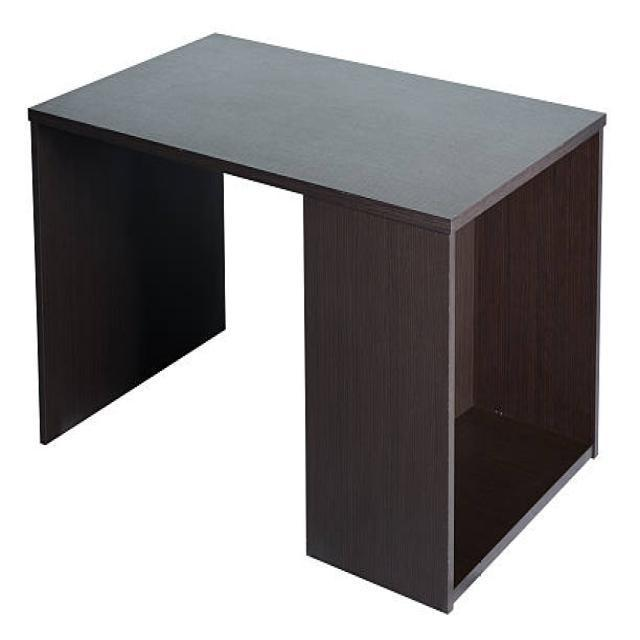table: (27, 29, 607, 614)
